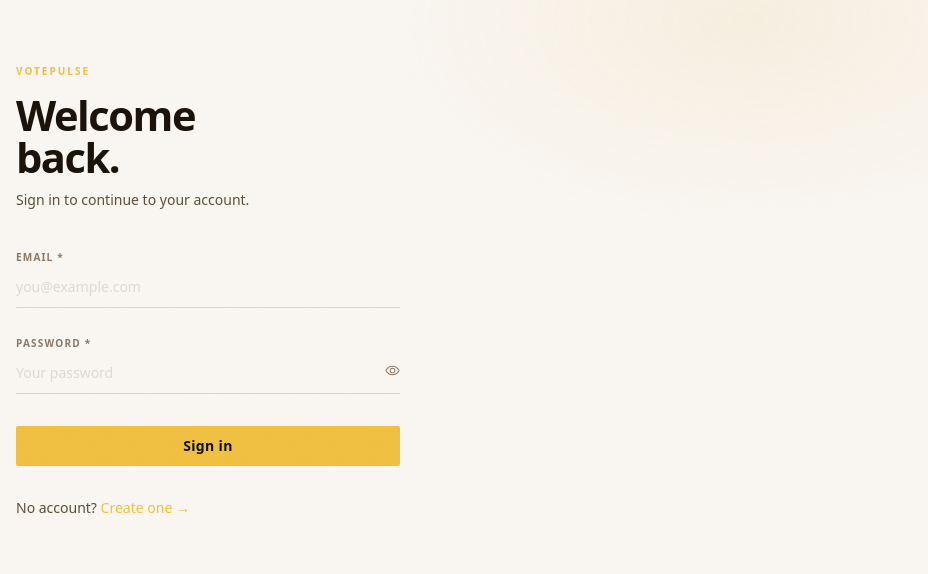
Test case: Login Page › shows validation errors for empty submit
The image size is (928, 574).
Click the button "Sign in": click(208, 446) left=16, top=426, right=400, bottom=466
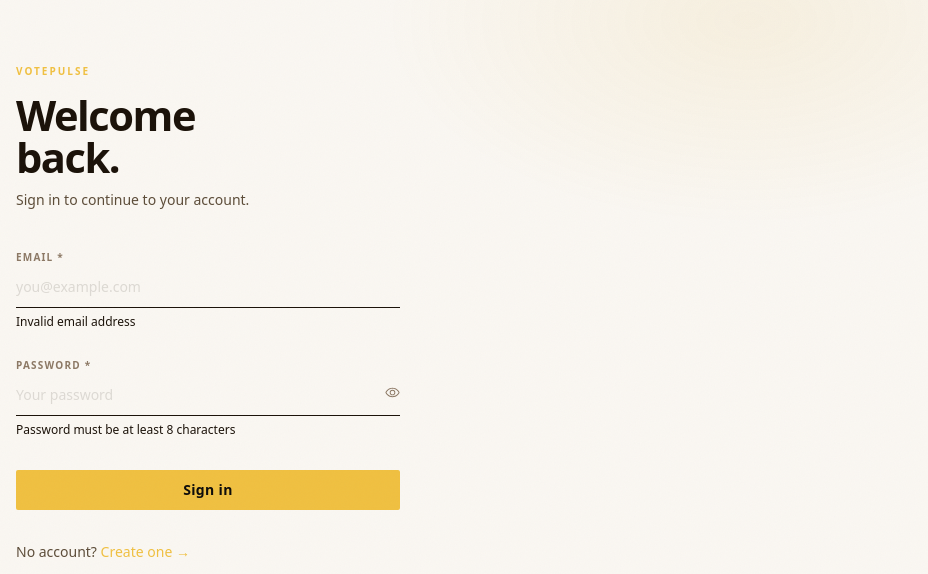
expect the text "Invalid email address" is shown: met, box left=16, top=313, right=136, bottom=330
